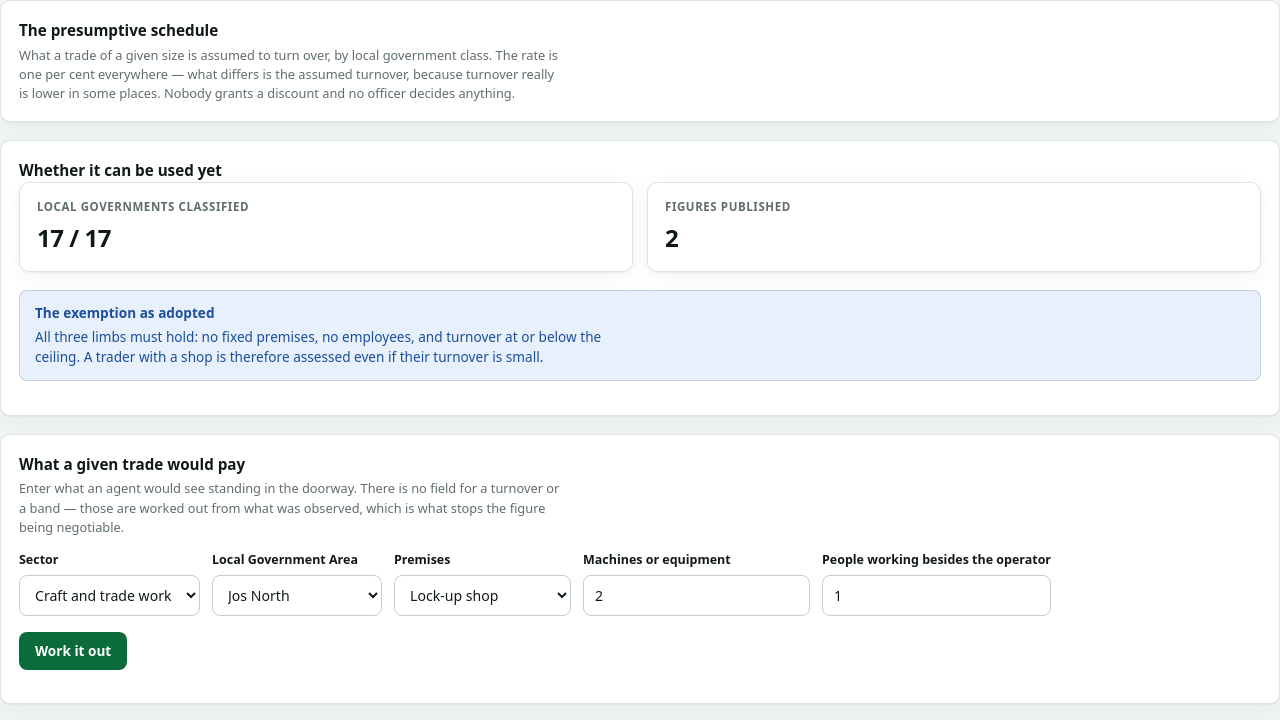
it: working out one trade › reports a refusal rather than a blank result
Click the button "Work it out" at (73, 651), box left=19, top=632, right=127, bottom=670
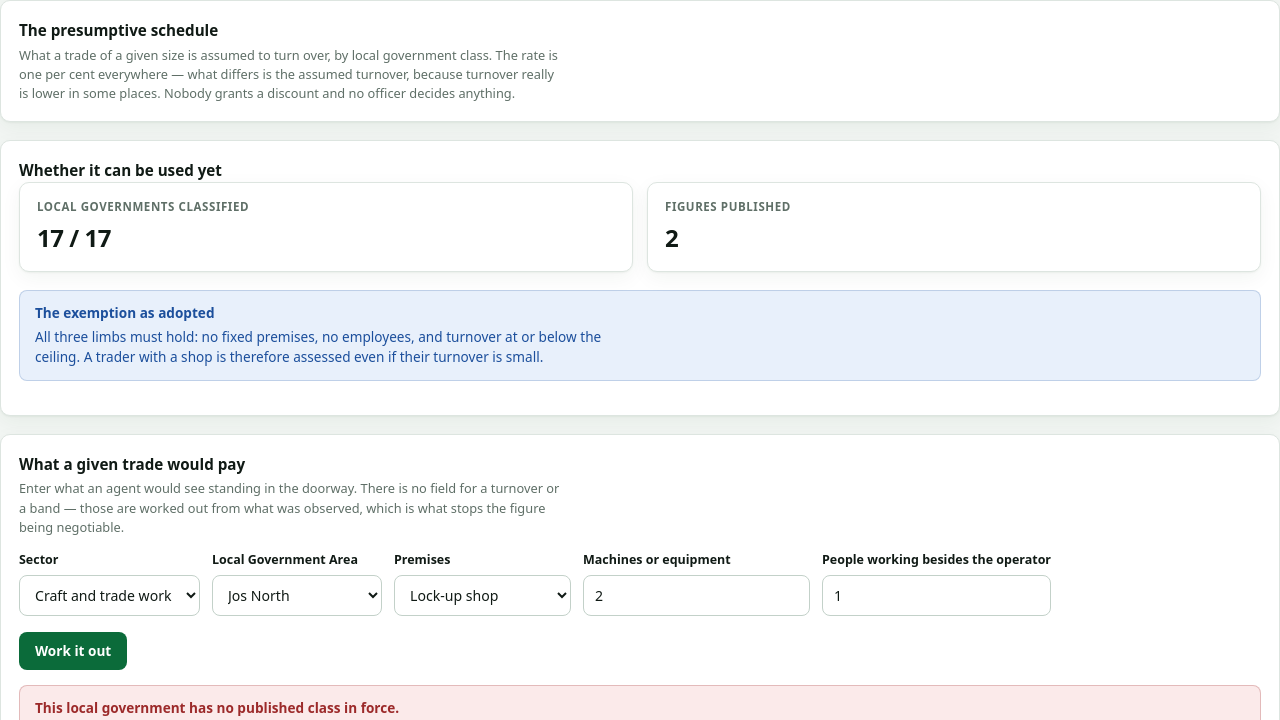
Now the text "This local government has no published class in force." is shown, box left=35, top=698, right=399, bottom=717
